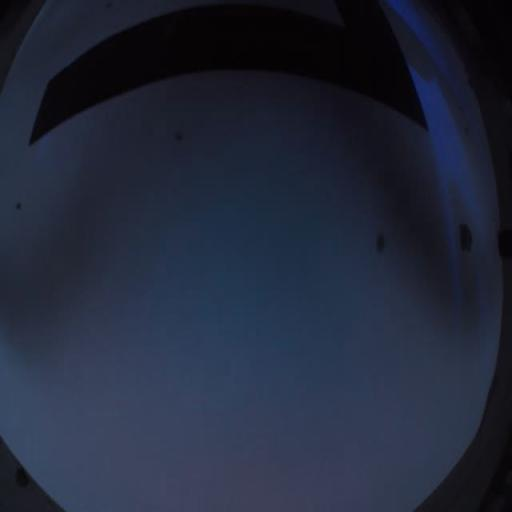Z: (26, 0, 428, 147)
